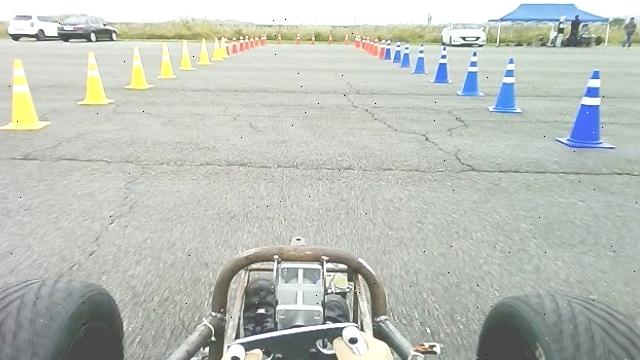blue cone: (556, 69, 616, 148), (488, 57, 522, 113), (457, 50, 486, 96), (431, 44, 453, 84), (412, 43, 429, 74), (400, 41, 413, 67), (393, 41, 402, 63), (383, 39, 392, 60)
yellow cone: (0, 57, 52, 130), (78, 50, 115, 105), (124, 46, 154, 90), (157, 41, 178, 78), (179, 39, 197, 70), (198, 37, 213, 65), (211, 36, 224, 61)
